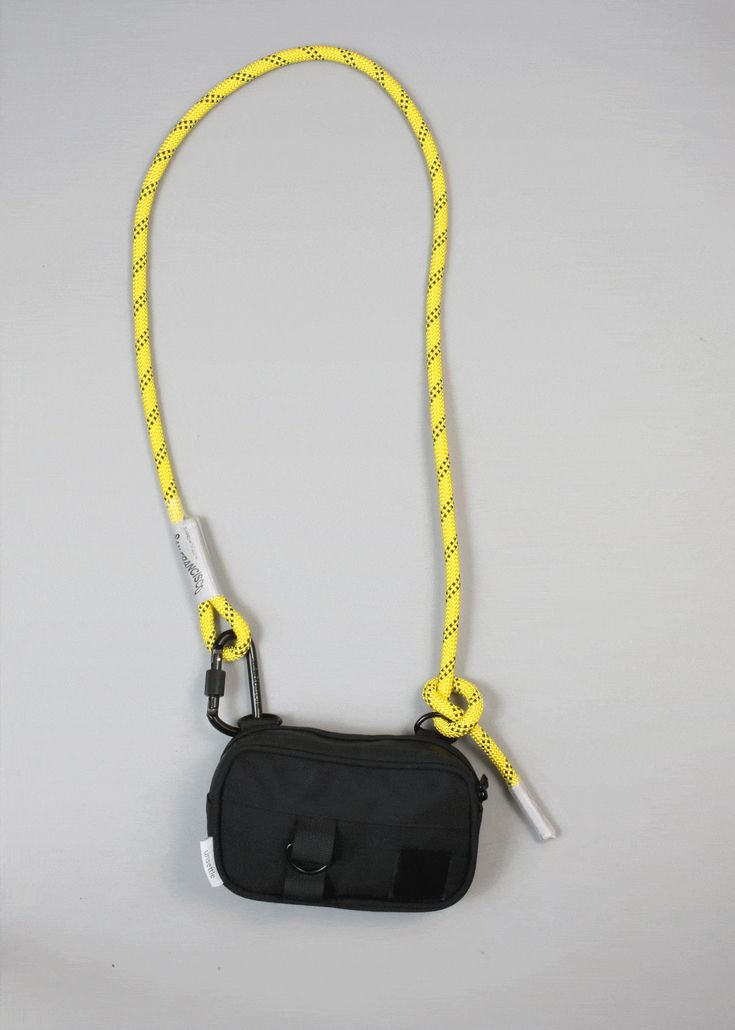nylon: (205, 726, 482, 912)
